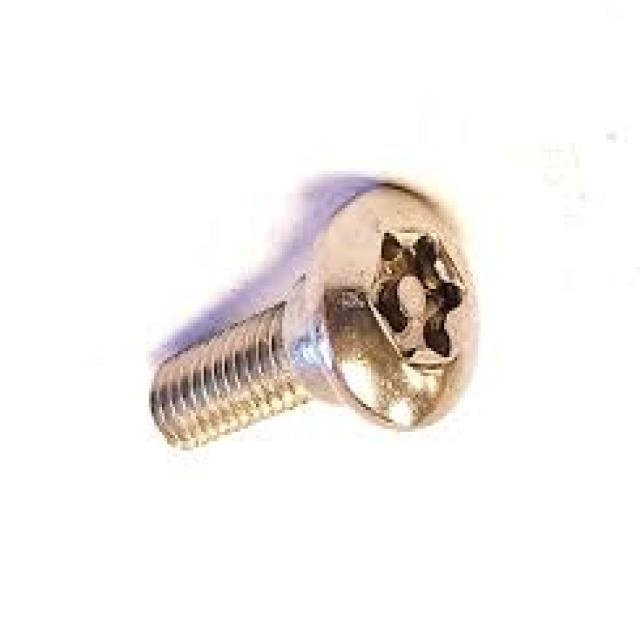torx: (310, 185, 481, 435)
